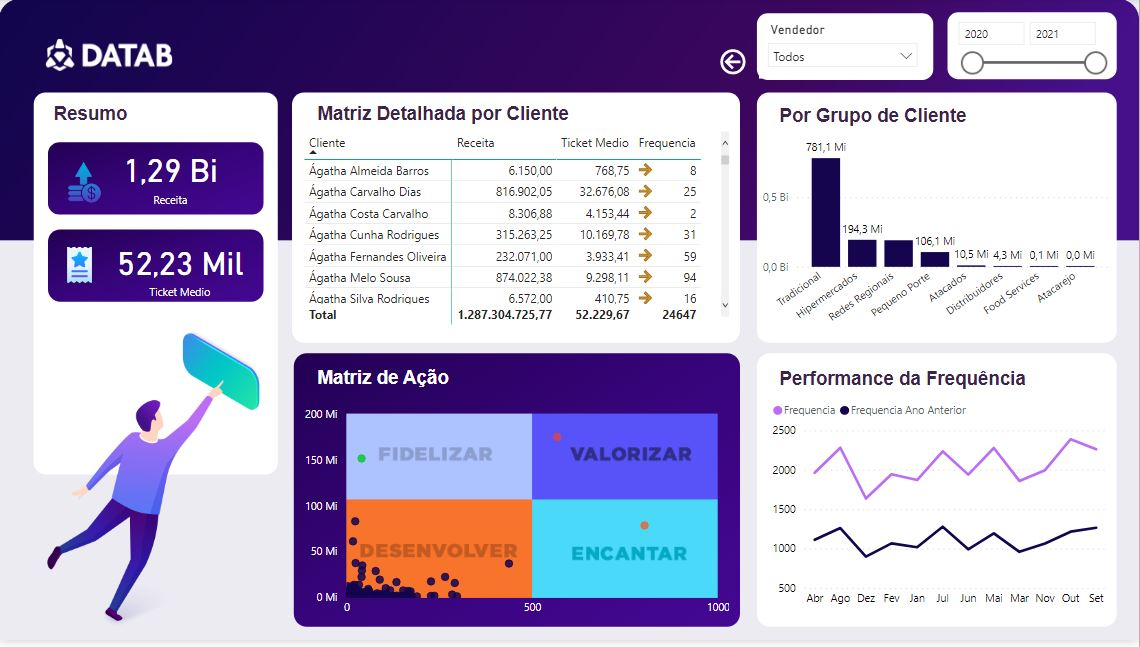

The page's visual inventory and layout, read from the dashboard file:
{"tool":"powerbi","page":{"name":"Analise","canvas":[1280,720],"ordinal":1},"visuals":[{"type":"card","fields":{"Values":["Medidas.Receita"]},"box":[98.6,148.6,186.5,98.6],"z":0},{"type":"lineChart","fields":{"Y":["Medidas.Frequencia","Medidas.Frequencia Ano Anterior"],"Category":["CalendarioM.Nome do Mês"]},"box":[862.9,442.8,385.2,248.7],"z":1000},{"type":"slicer","fields":{"Values":["CalendarioM.Ano"]},"box":[1064.6,15.2,188.1,80.4],"z":2000},{"type":"clusteredColumnChart","fields":{"Y":["Medidas.Receita"],"Category":["Clientes.Grupo Cliente"]},"box":[852.3,144.1,400.4,232],"z":3000},{"type":"card","fields":{"Values":["Medidas.Ticket Medio"]},"box":[109.2,260.9,188.1,81.9],"z":4000},{"type":"scatterChart","fields":{"Category":["Clientes.Cliente"],"X":["Medidas.Frequencia"],"Y":["Medidas.Receita"]},"box":[338.2,451.9,486.8,248.7],"z":5000},{"type":"pivotTable","fields":{"Rows":["Clientes.Cliente"],"Values":["Medidas.Receita","Medidas.Ticket Medio","Medidas.Frequencia"]},"box":[338.2,144.1,486.8,227.5],"z":6000},{"type":"slicer","fields":{"Values":["Pedidos.Vendedor"]},"box":[853.8,21.2,188.1,68.2],"z":7000},{"type":"actionButton","box":[805.3,50,37.9,39.4],"z":8000}]}

Visuals, with their boxes in screenshot pixels (x1, y1, x2, y2), scaled from the page's 1280x720 canvas onto the 1140x647 screenshot:
card - Medidas.Receita: region(88, 134, 254, 222)
lineChart - Medidas.Frequencia x Medidas.Frequencia Ano Anterior: region(769, 398, 1112, 621)
slicer - CalendarioM.Ano: region(948, 14, 1116, 86)
clusteredColumnChart - Medidas.Receita x Clientes.Grupo Cliente: region(759, 129, 1116, 338)
card - Medidas.Ticket Medio: region(97, 234, 265, 308)
scatterChart - Clientes.Cliente x Medidas.Frequencia: region(301, 406, 735, 630)
pivotTable - Clientes.Cliente x Medidas.Receita: region(301, 129, 735, 334)
slicer - Pedidos.Vendedor: region(760, 19, 928, 80)
actionButton: region(717, 45, 751, 80)
